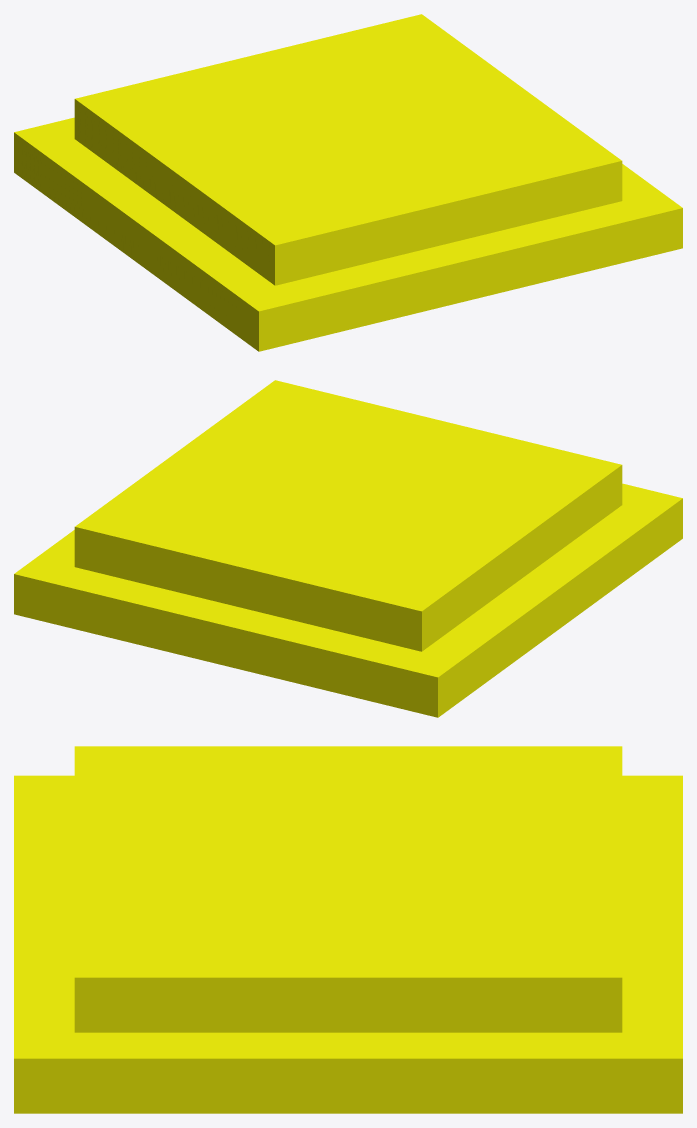
Rendered from voxel-farm-soil.glb.
3 renders of one model, top to bottom at view 1: azimuth 30°, elevation 25°; view 2: azimuth 150°, elevation 25°; view 3: azimuth 270°, elevation 25°, orthographic. The views are drawn at different scales.
Parts seen in each view (by area): view 1: VS_Farm_Soil; view 2: VS_Farm_Soil; view 3: VS_Farm_Soil.
Part boxes in pixels (x1,y1,x2,y2): VS_Farm_Soil: [14, 14, 682, 351]; VS_Farm_Soil: [14, 380, 682, 717]; VS_Farm_Soil: [14, 746, 682, 1113].
Size of the model in its own units: 1.1 by 0.1999 by 1.1.
